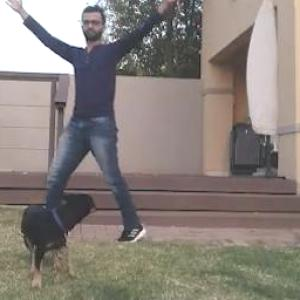takeoff: (0, 0, 190, 252)
